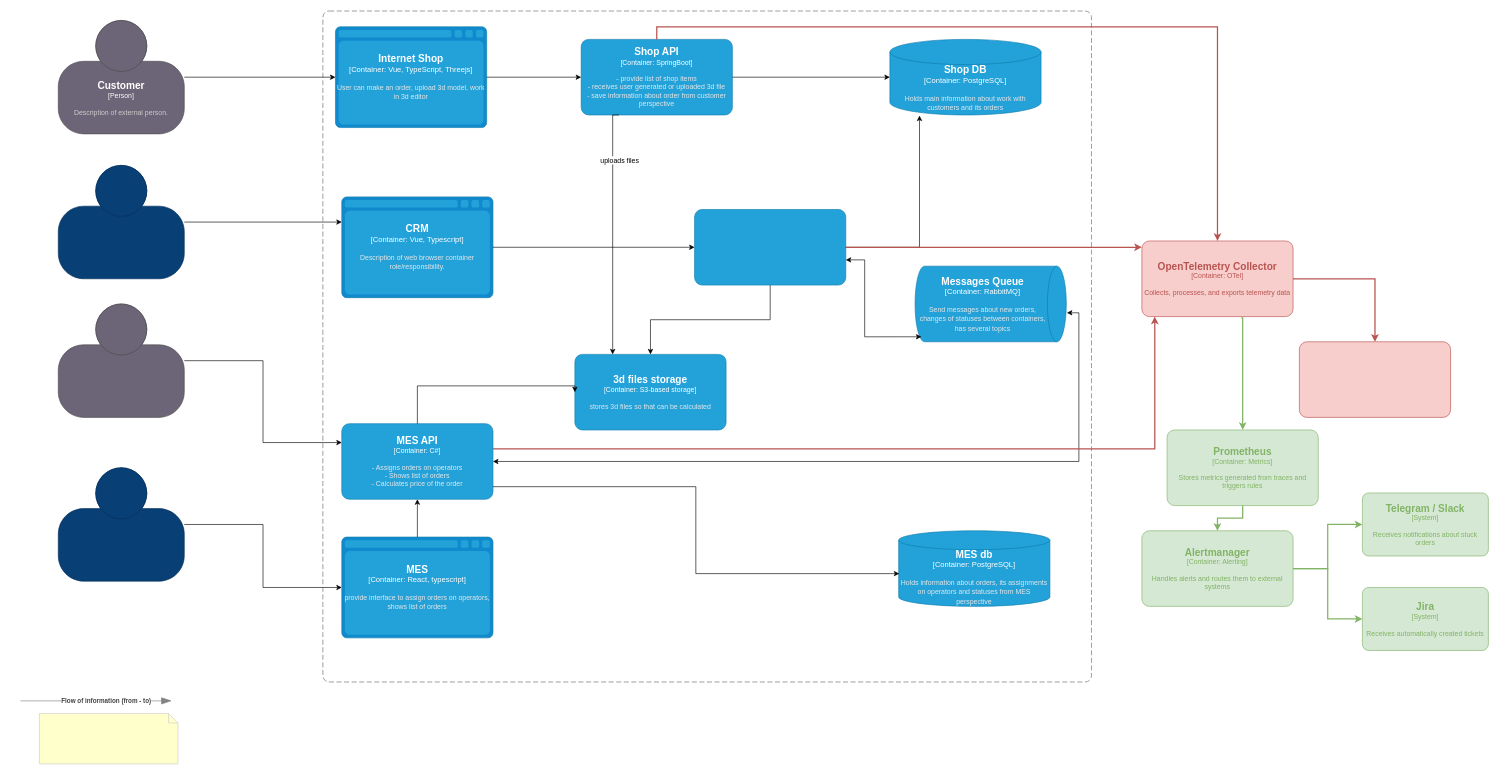
This 1499x775 diagram has some shape labels left out. Here are the shapes that lost their labels. From the top down, the box of each, then its label:
(58, 165, 184, 279): Seller [Person] Operates with order, confirms manufacturing for the user
(694, 209, 846, 285): CRM API [Container: SpringBoot] Description of container role/responsibility.
(58, 303, 184, 417): API user [Person] Description of external person.
(322, 10, 1091, 682): Jewerly Store System [Software System]
(1299, 341, 1451, 417): Jaeger [Container: Distributed Tracing] Stores and visualizes distributed traces
(58, 467, 184, 581): Operator [Person] Takes order in work, manufactures jewerly
(39, 713, 178, 764): Legend ■ Tracing Components (Red) ■ Alerting Components (Green)
